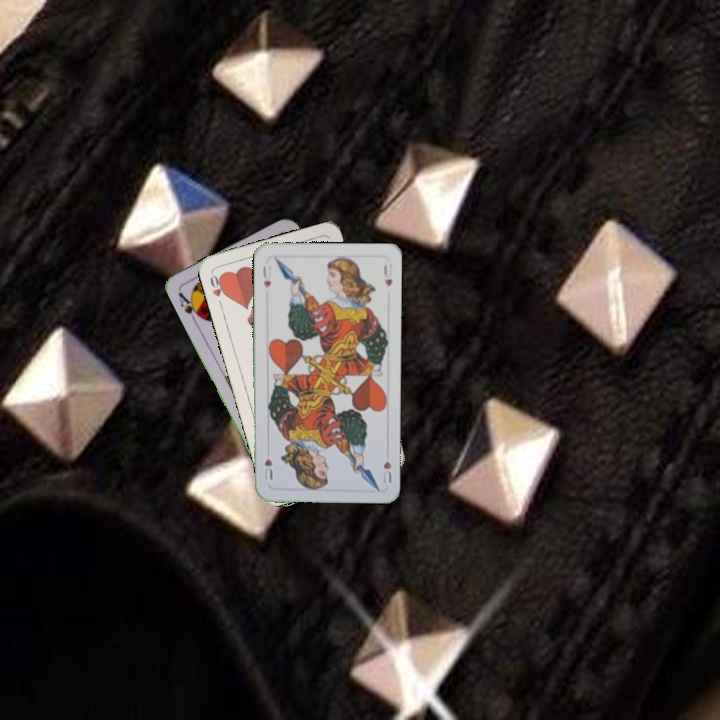HO: (206, 270, 229, 309)
HU: (259, 262, 274, 290), (379, 458, 394, 486)
SA: (175, 288, 204, 324)
